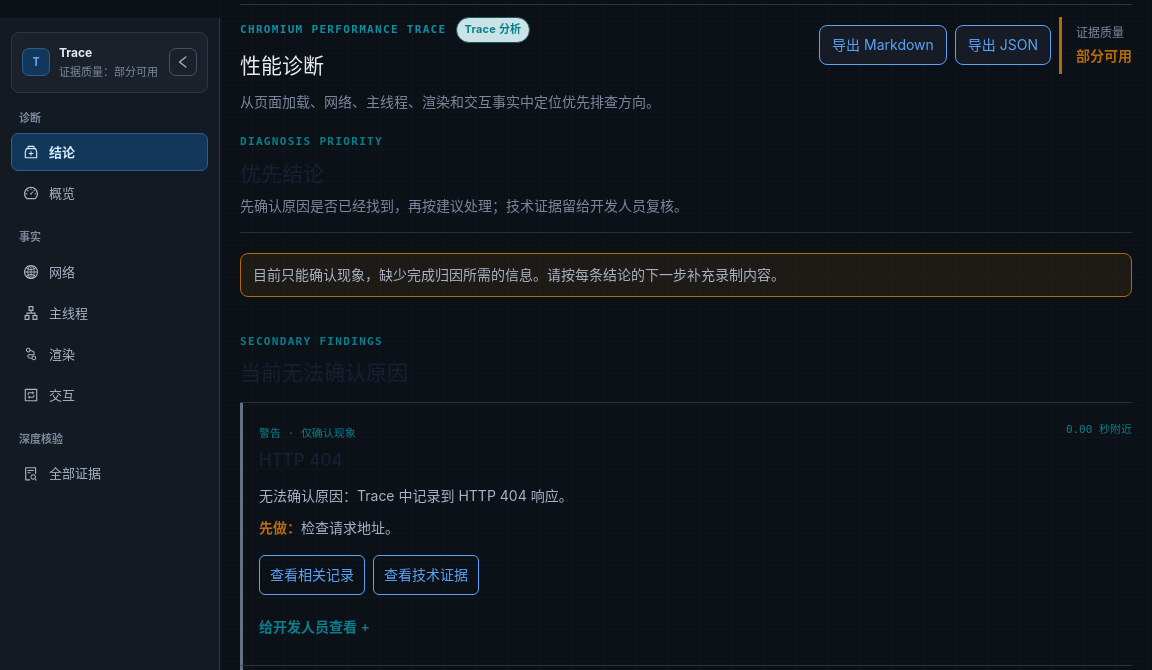
TraceResultPage › 结论卡展示一条结论、证据和建议，并分别跳事实与原始证据
Expected: the text "无法确认原因：Trace 中记录到 HTTP 404 响应。" is shown, [259,487,573,504]
Expected: the text "检查请求地址。" is shown, [301,519,399,536]
Click the button with aria-label "查看判断依据：HTTP 404" at coordinates (314, 627), box [259,607,370,647]
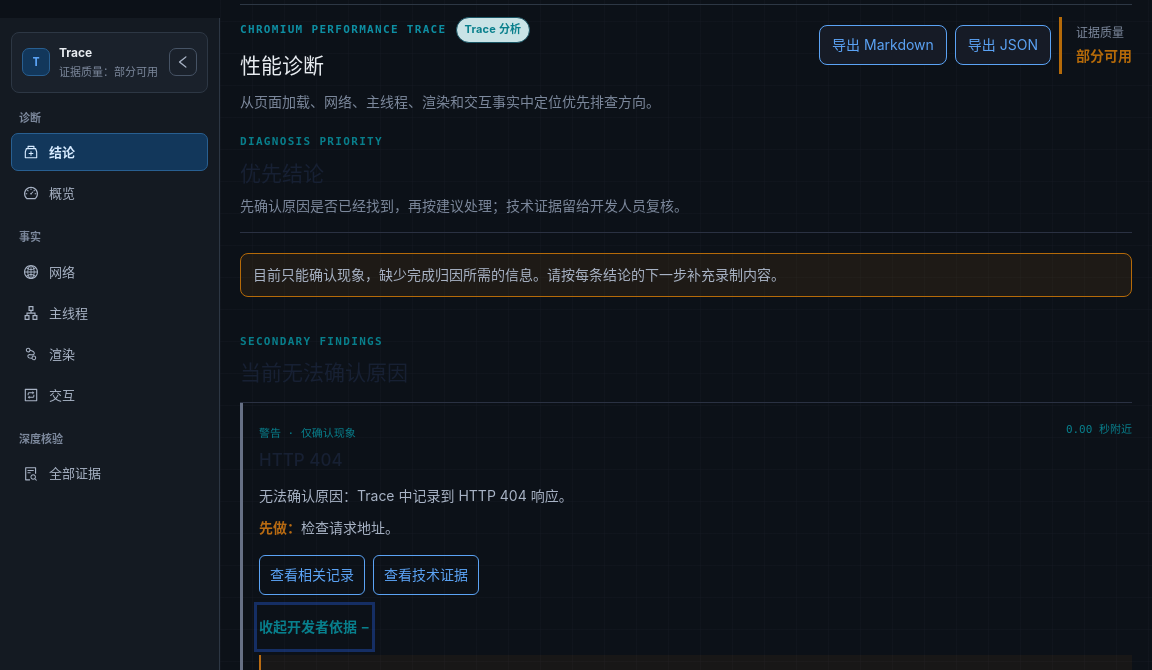
Expected: the button with aria-label "收起判断依据：HTTP 404" is shown, [259,607,370,647]
Click the button with aria-label "查看事实：HTTP 404" at coordinates (312, 575), box [259,555,365,595]
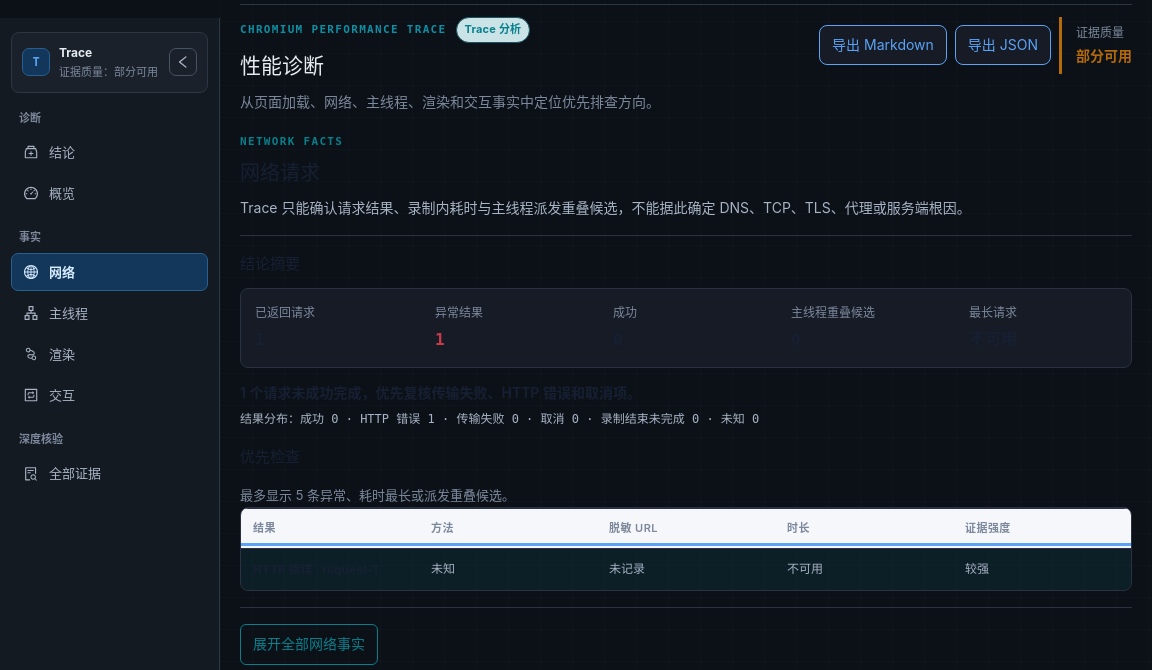
Click the button "结论" at coordinates (110, 152), box [11,133,208,171]
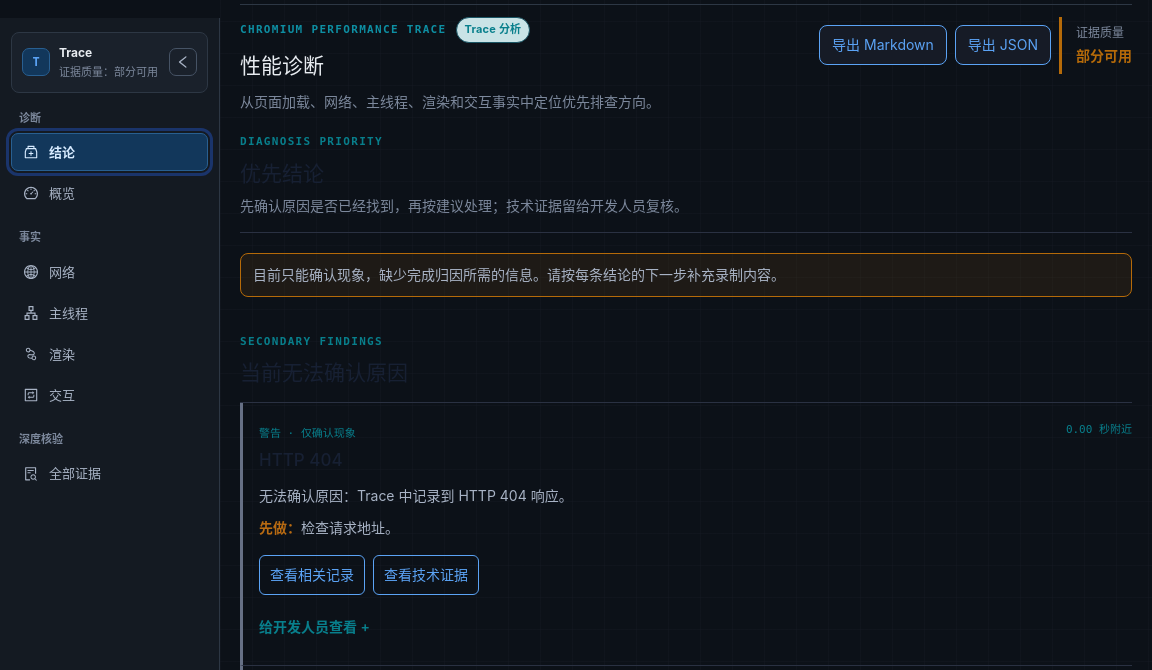
Click the button with aria-label "查看证据索引：HTTP 404" at coordinates (426, 575), box [373,555,479,595]
(page scrolled)
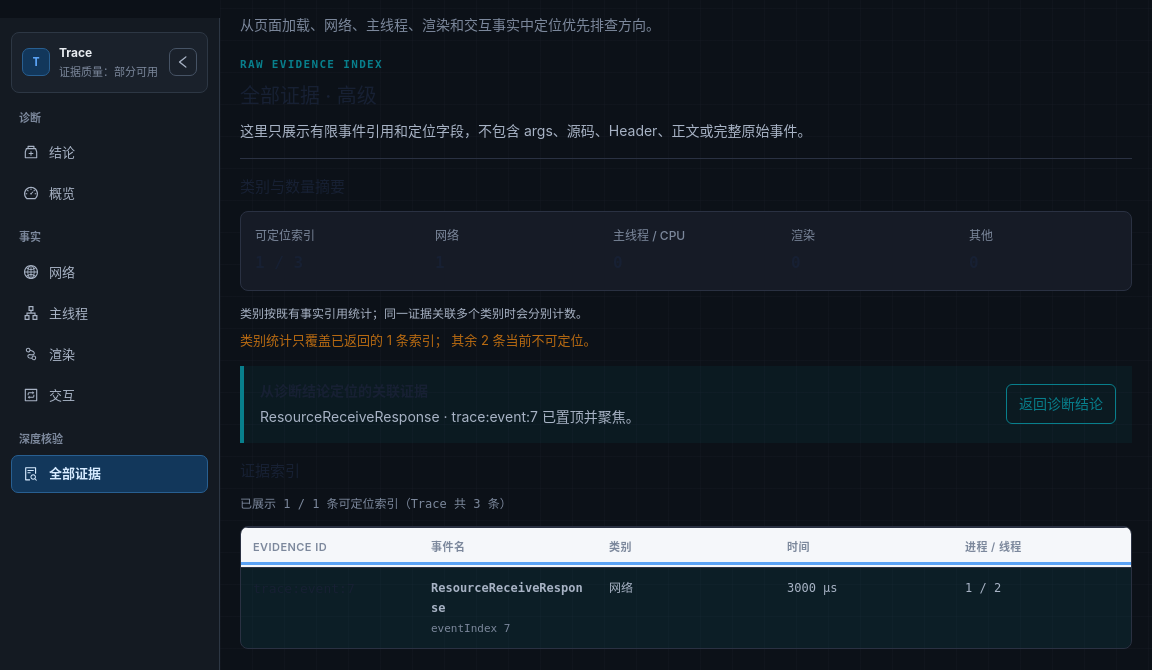
Expected: the text "ResourceReceiveResponse" is shown, [431,579,585,618]
Expected: the text "eventIndex 7" is shown, [431,622,510,635]
